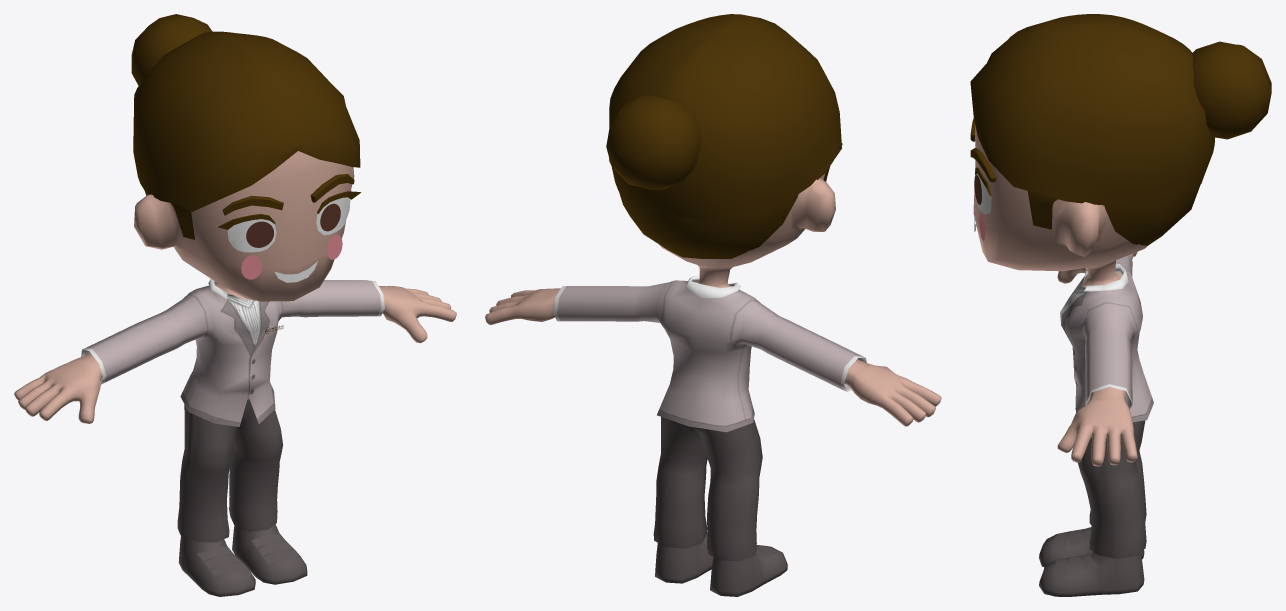
File: Mujer_gala.fbx
The picture shows the model from 3 angles, left to right: view 1: azimuth 30°, elevation 25°; view 2: azimuth 150°, elevation 25°; view 3: azimuth 270°, elevation 25°; orthographic projection. The views are drawn at different scales.
Parts seen in each view (by area): view 1: Mujer_gala; view 2: Mujer_gala; view 3: Mujer_gala.
Part boxes in pixels (x1,y1,x2,y2): Mujer_gala: (14, 14, 456, 596); Mujer_gala: (485, 14, 941, 596); Mujer_gala: (970, 14, 1271, 596).
Bounding box in the file's own units: 146 × 174 × 86.14.
6 materials, 1 textured.
